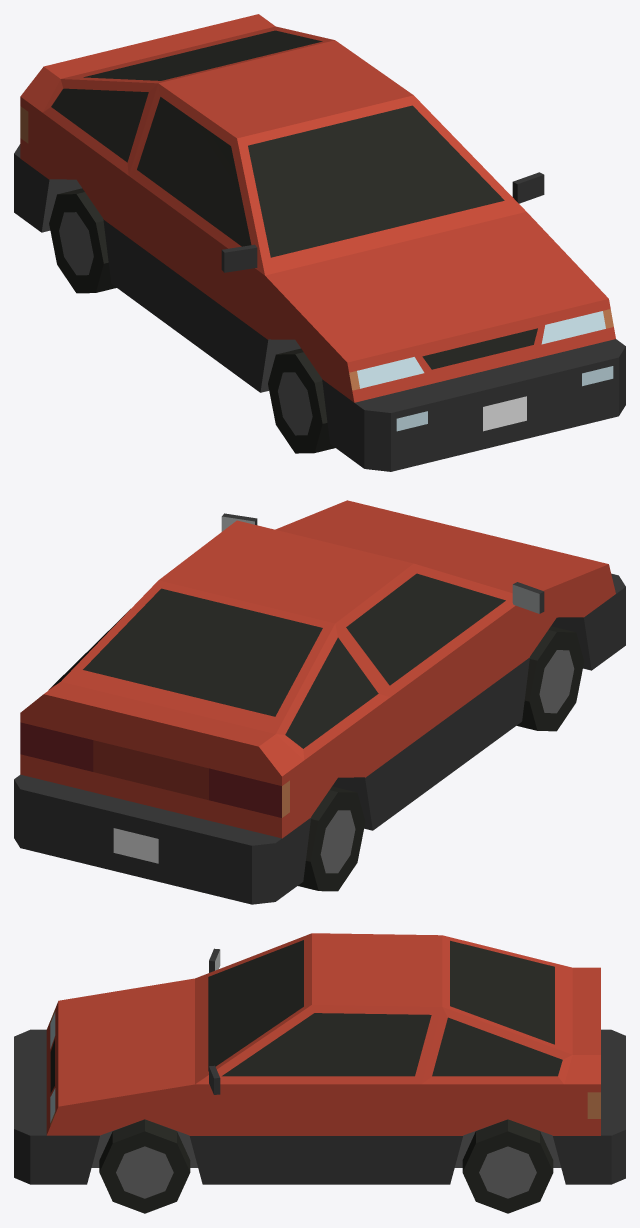
File: Veh_Coupe_01_Red.glb
3 views of the same model, one above another, from view 1: azimuth 30°, elevation 25°; view 2: azimuth 150°, elevation 25°; view 3: azimuth 270°, elevation 25° (orthographic). The views are drawn at different scales.
Parts seen in each view (by area): view 1: Coupe_01_Red, Wheel_FR, Wheel_RR; view 2: Coupe_01_Red, Wheel_RR, Wheel_FR; view 3: Coupe_01_Red, Wheel_RL, Wheel_FL.
Part boxes in pixels (<box>): Coupe_01_Red: <box>14,14,625,471</box>; Wheel_FR: <box>268,348,334,453</box>; Wheel_RR: <box>49,188,116,293</box>; Coupe_01_Red: <box>14,500,625,904</box>; Wheel_RR: <box>298,786,365,891</box>; Wheel_FR: <box>516,626,584,731</box>; Coupe_01_Red: <box>14,933,625,1184</box>; Wheel_RL: <box>462,1119,553,1213</box>; Wheel_FL: <box>99,1119,190,1213</box>.
Size of the model in its own units: 1.18 by 0.8117 by 2.35.
1 material, 1 textured.
